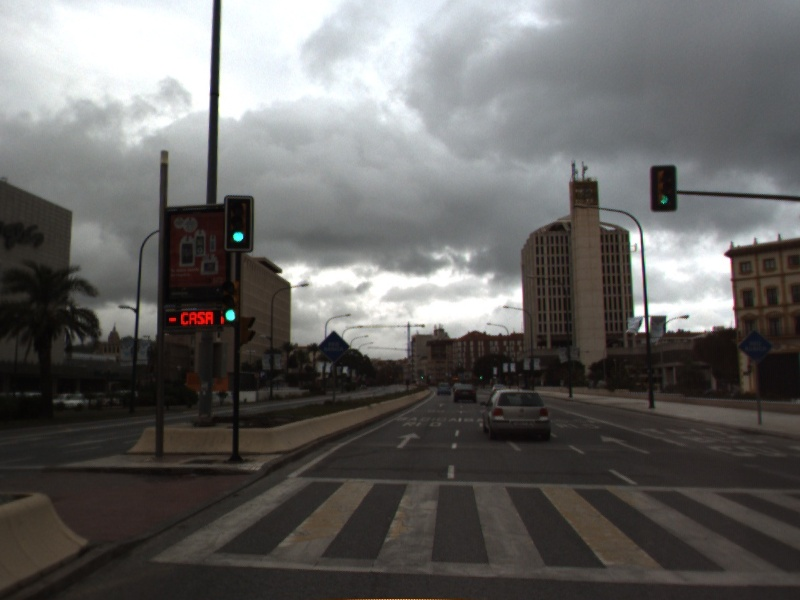STRAIGHT: (597, 433, 653, 457), (394, 430, 423, 450)
